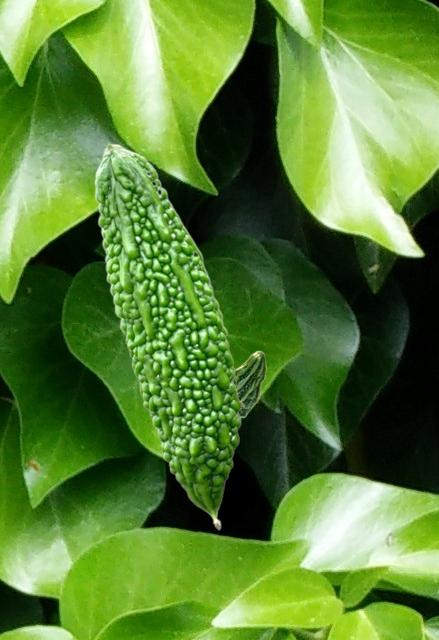ampalaya: (92, 140, 247, 532), (234, 348, 267, 418)
